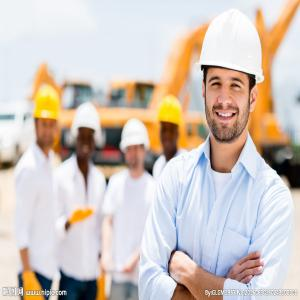white: (199, 9, 266, 144), (70, 103, 102, 163), (119, 117, 151, 172)
yellow: (32, 84, 63, 148), (157, 95, 185, 156)
